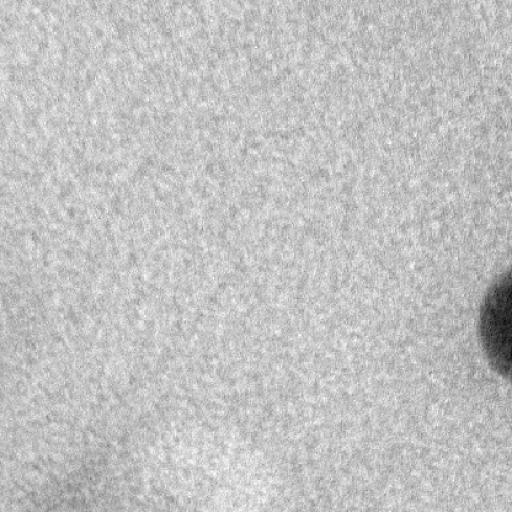Nanoparticles: (477, 260, 512, 380)
